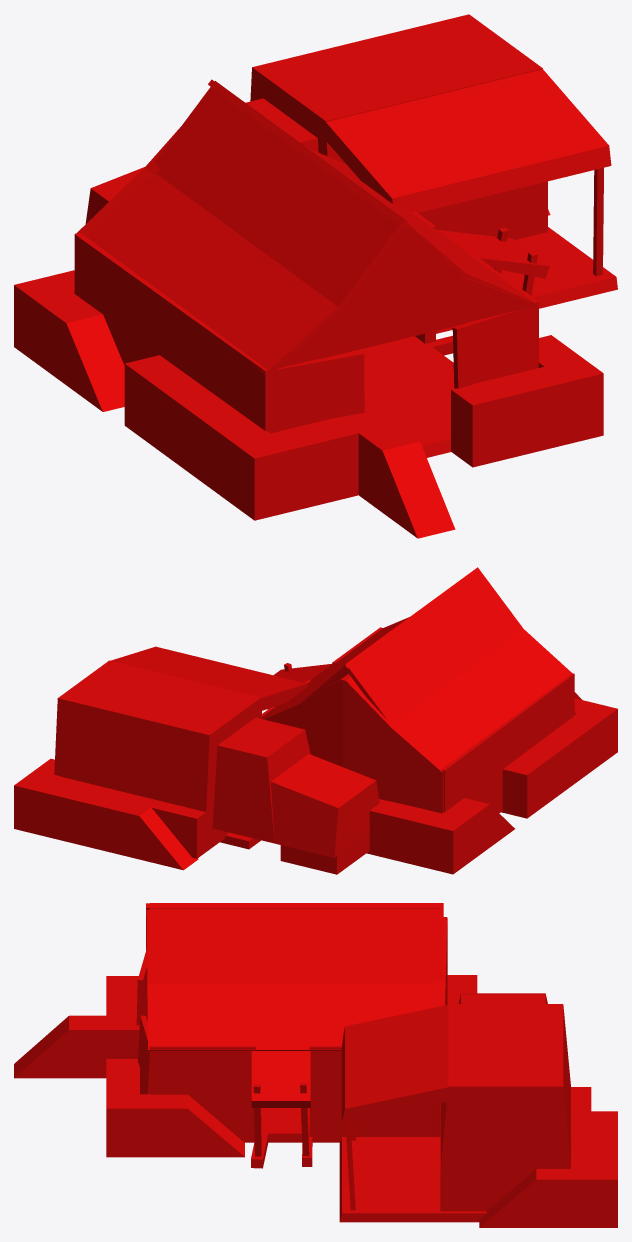
Rendered from SM_Bld_Military_Tent_Preset_01_Collision.fbx.
The picture shows the model from 3 angles, top to bottom: view 1: azimuth 30°, elevation 25°; view 2: azimuth 150°, elevation 25°; view 3: azimuth 270°, elevation 25°; orthographic projection. The views are drawn at different scales.
Parts seen in each view (by area): view 1: SM_Bld_Military_Tent_Preset_01_Collision; view 2: SM_Bld_Military_Tent_Preset_01_Collision; view 3: SM_Bld_Military_Tent_Preset_01_Collision.
Part boxes in pixels (<box>): SM_Bld_Military_Tent_Preset_01_Collision: <box>14,14,617,538</box>; SM_Bld_Military_Tent_Preset_01_Collision: <box>14,567,617,874</box>; SM_Bld_Military_Tent_Preset_01_Collision: <box>14,903,617,1227</box>.
Size of the model in its own units: 936 by 413 by 1168.
